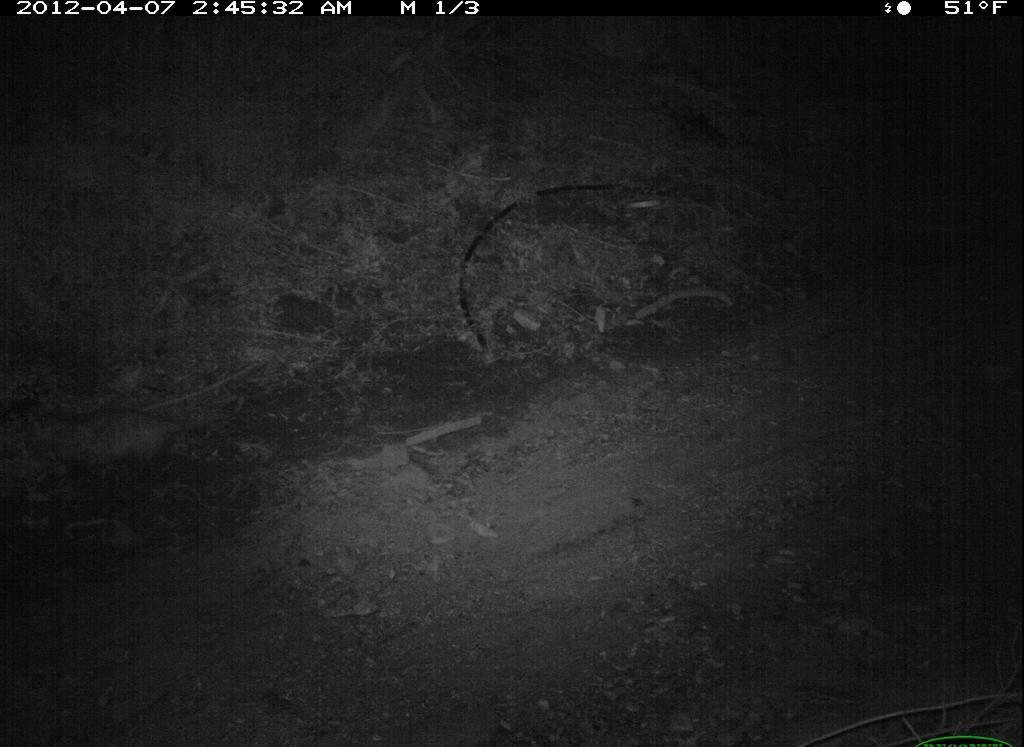opossum: (18, 399, 230, 504)
